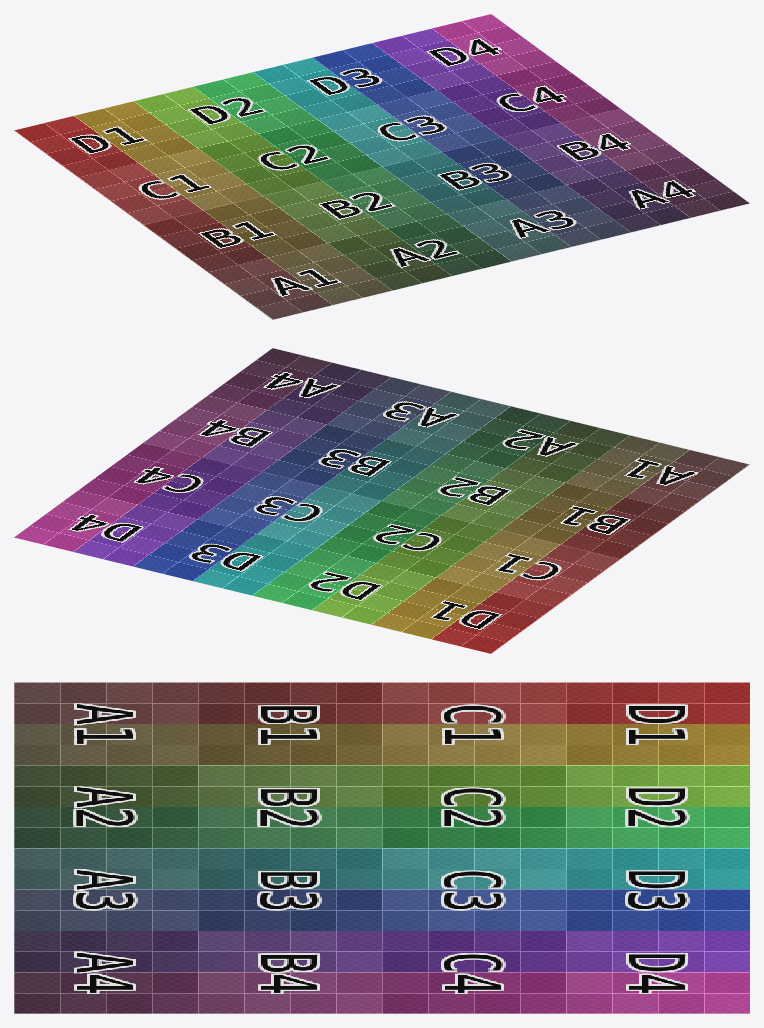
Rendered from test_floor.glb.
The picture shows the model from 3 angles, top to bottom: view 1: azimuth 30°, elevation 25°; view 2: azimuth 150°, elevation 25°; view 3: azimuth 270°, elevation 25°; orthographic projection. The views are drawn at different scales.
Parts seen in each view (by area): view 1: Plane; view 2: Plane; view 3: Plane.
Part boxes in pixels (bbox=[...]): Plane: bbox=[14, 14, 749, 319]; Plane: bbox=[14, 348, 749, 653]; Plane: bbox=[14, 682, 749, 1013].
Size of the model in its own units: 9.74 by 0 by 9.15.
2 materials, 2 textured.
